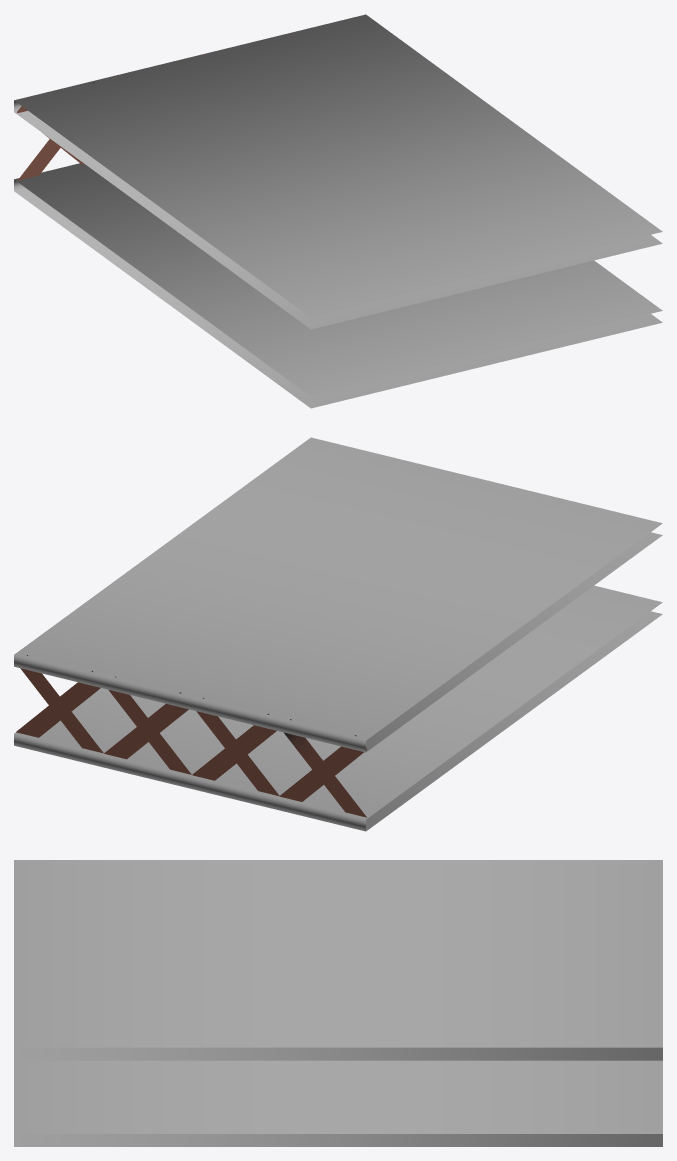
Rendered from platform2.fbx.
3 renders of one model, top to bottom at view 1: azimuth 30°, elevation 25°; view 2: azimuth 150°, elevation 25°; view 3: azimuth 270°, elevation 25°, orthographic. The views are drawn at different scales.
Parts seen in each view (by area): view 1: Cube; view 2: Cube; view 3: Cube.
Part boxes in pixels (x1,y1,x2,y2): Cube: (14, 14, 662, 408); Cube: (14, 437, 662, 831); Cube: (14, 860, 662, 1146).
Bounding box in the file's own units: 667 × 167 × 975.
